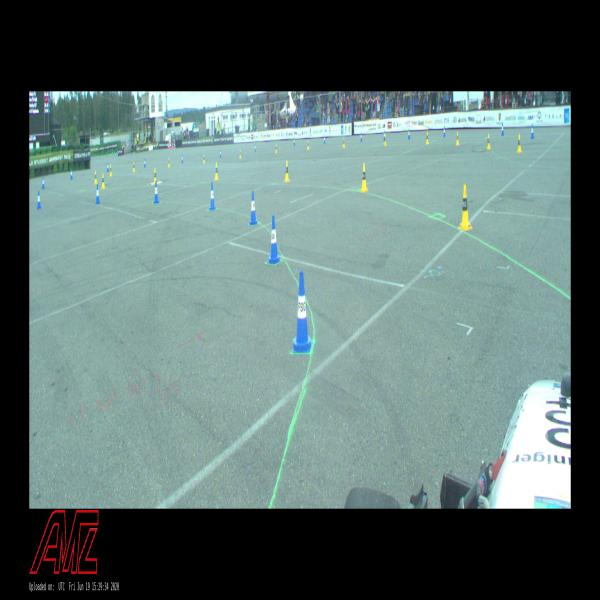blue_cone: (291, 271, 312, 352), (267, 216, 281, 264), (249, 190, 257, 225), (209, 183, 216, 210), (154, 182, 159, 204), (95, 185, 100, 204), (37, 191, 41, 209), (530, 125, 534, 138), (501, 123, 504, 135), (42, 177, 45, 188), (70, 168, 73, 179), (443, 126, 446, 137), (360, 132, 363, 142), (144, 158, 146, 168), (408, 129, 410, 139), (107, 163, 109, 172), (324, 135, 326, 143), (220, 150, 222, 158), (182, 154, 183, 162), (294, 138, 295, 146), (255, 144, 256, 152), (384, 130, 384, 141)
yellow_cone: (458, 185, 473, 230), (359, 163, 369, 191), (284, 160, 290, 182), (517, 134, 522, 152), (214, 162, 219, 180), (101, 174, 106, 189), (487, 134, 491, 149), (94, 171, 98, 184), (154, 168, 157, 184), (456, 132, 459, 145), (426, 132, 429, 144), (384, 134, 387, 146), (110, 164, 112, 176), (133, 162, 135, 172), (308, 140, 310, 150), (343, 138, 345, 148), (203, 154, 205, 164), (168, 158, 170, 167), (275, 144, 277, 153), (240, 150, 241, 158)
